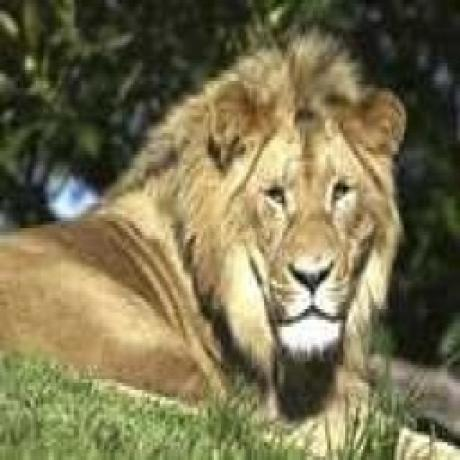Lion: (0, 30, 407, 460)
